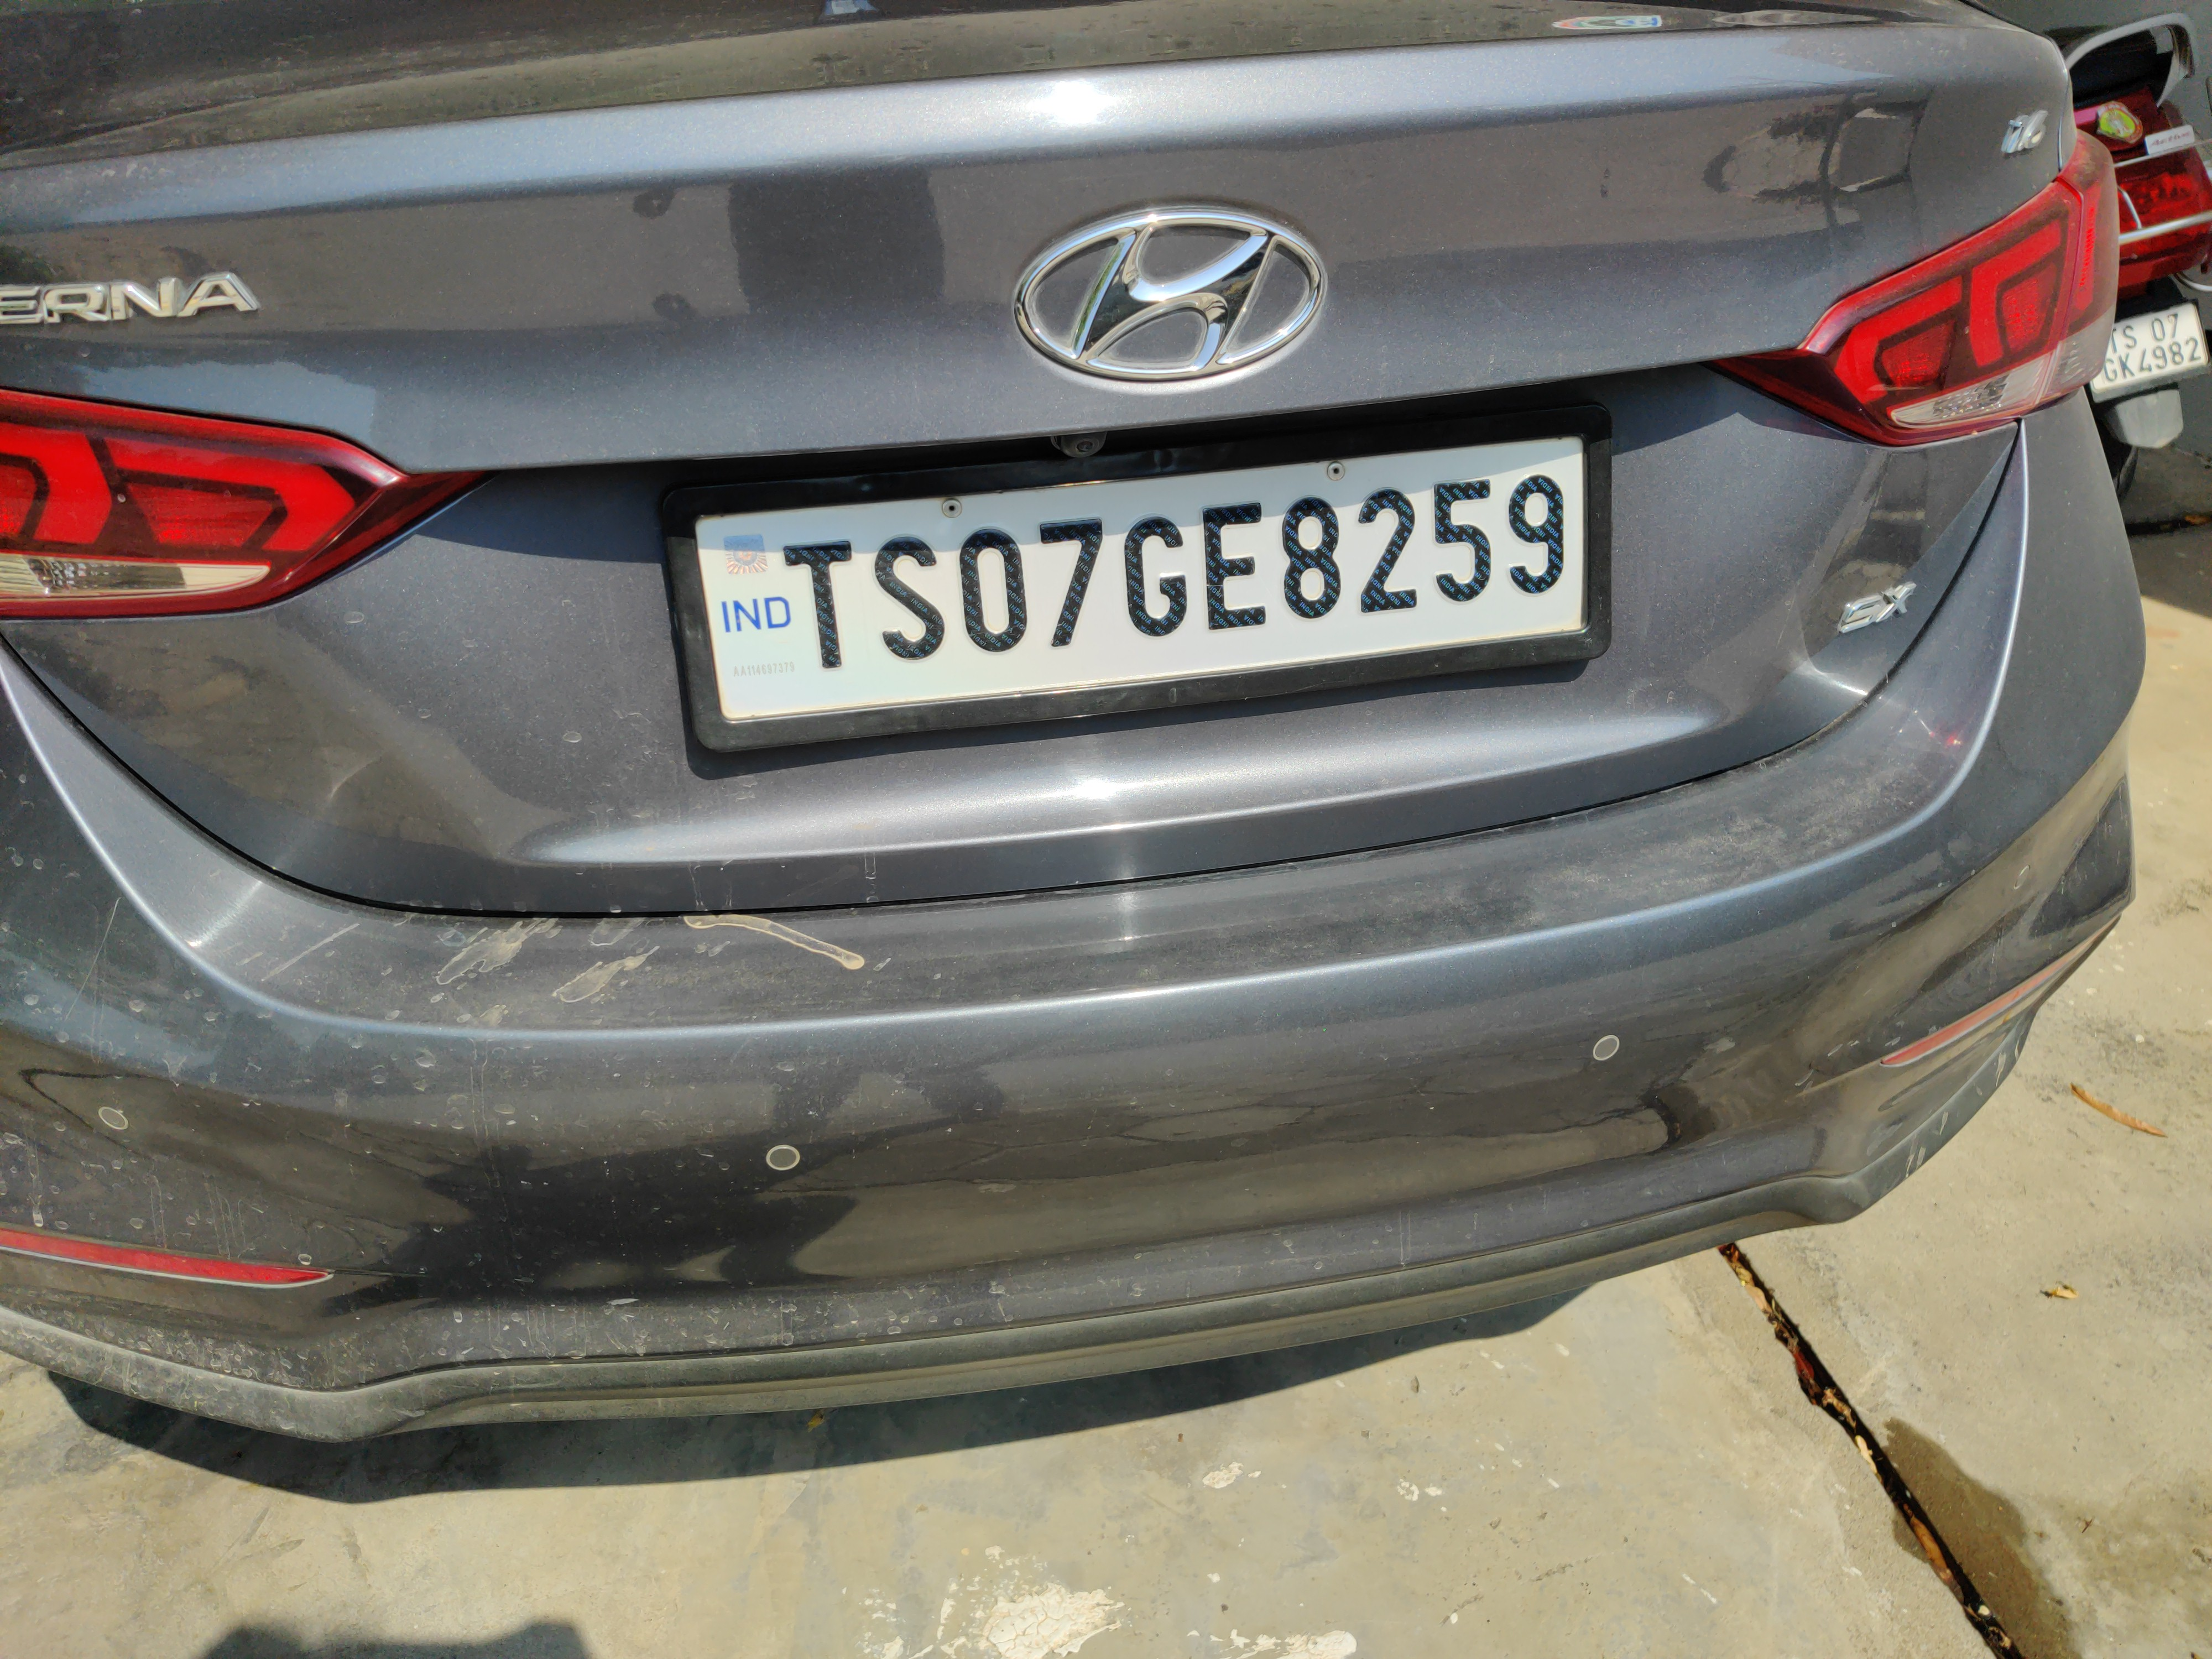plate: (594, 375, 1682, 753)
